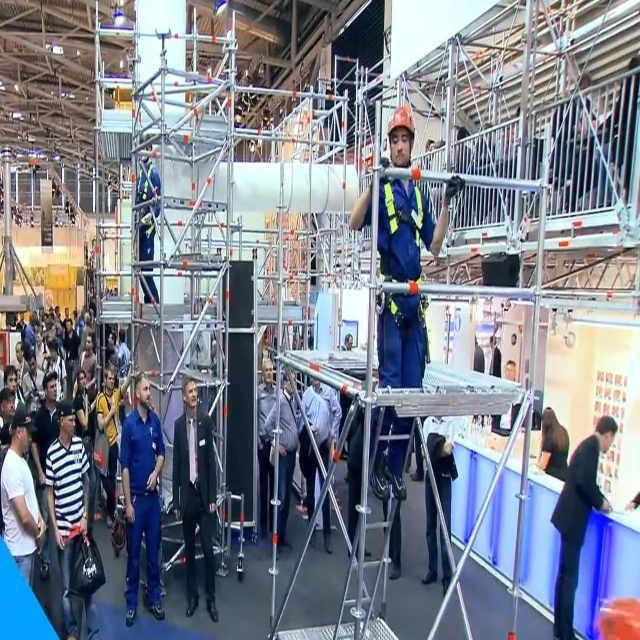Arnes_seguridad: (372, 172, 430, 337), (134, 164, 159, 246)
